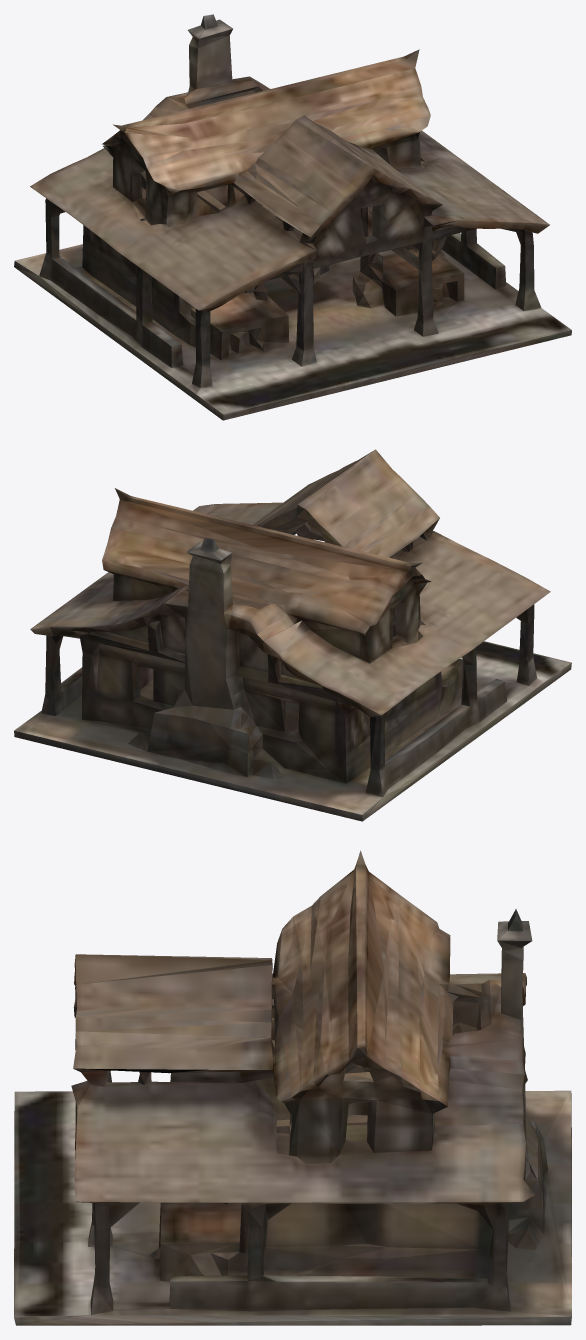
Rendered from tavern_wooden_long_lod1.glb.
The picture shows the model from 3 angles, top to bottom: view 1: azimuth 30°, elevation 25°; view 2: azimuth 150°, elevation 25°; view 3: azimuth 270°, elevation 25°; orthographic projection. The views are drawn at different scales.
Parts seen in each view (by area): view 1: tavern_wooden_long_lod1; view 2: tavern_wooden_long_lod1; view 3: tavern_wooden_long_lod1.
Part boxes in pixels (x1=…): tavern_wooden_long_lod1: x1=14, y1=14, x2=571, y2=420; tavern_wooden_long_lod1: x1=14, y1=449, x2=571, y2=821; tavern_wooden_long_lod1: x1=14, y1=850, x2=571, y2=1325.
Bounding box in the file's own units: 13.56 × 8.31 × 13.97.
1 material, 1 textured.
